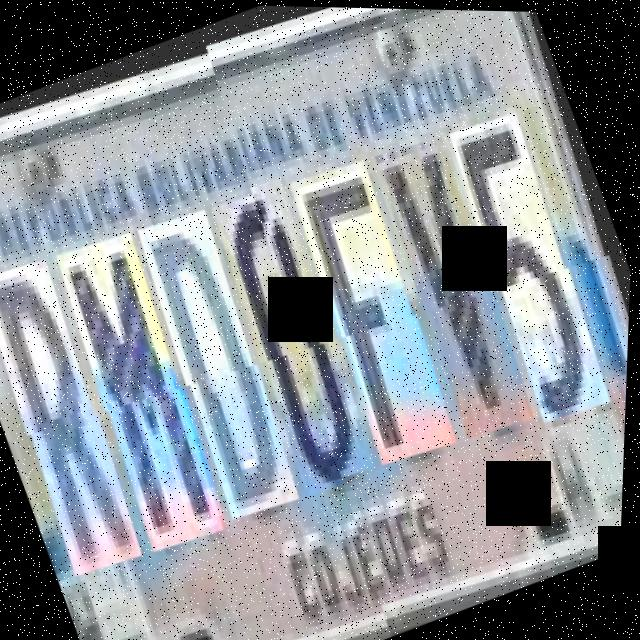0: (199, 174, 401, 494)
5: (437, 104, 636, 423)
D: (125, 199, 324, 518)
F: (279, 153, 482, 469)
M: (44, 223, 253, 553)
R: (0, 251, 169, 577)
V: (363, 128, 559, 441)
